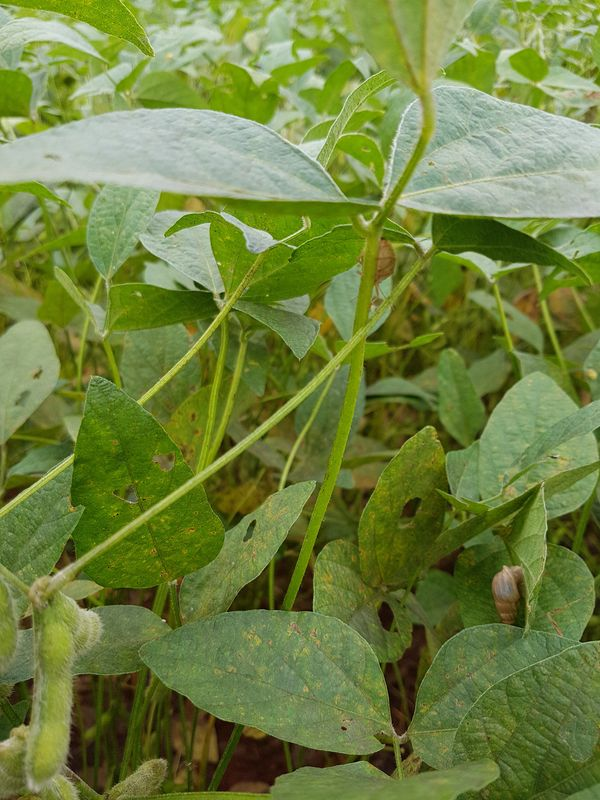Gastropoda: (481, 558, 538, 634)
